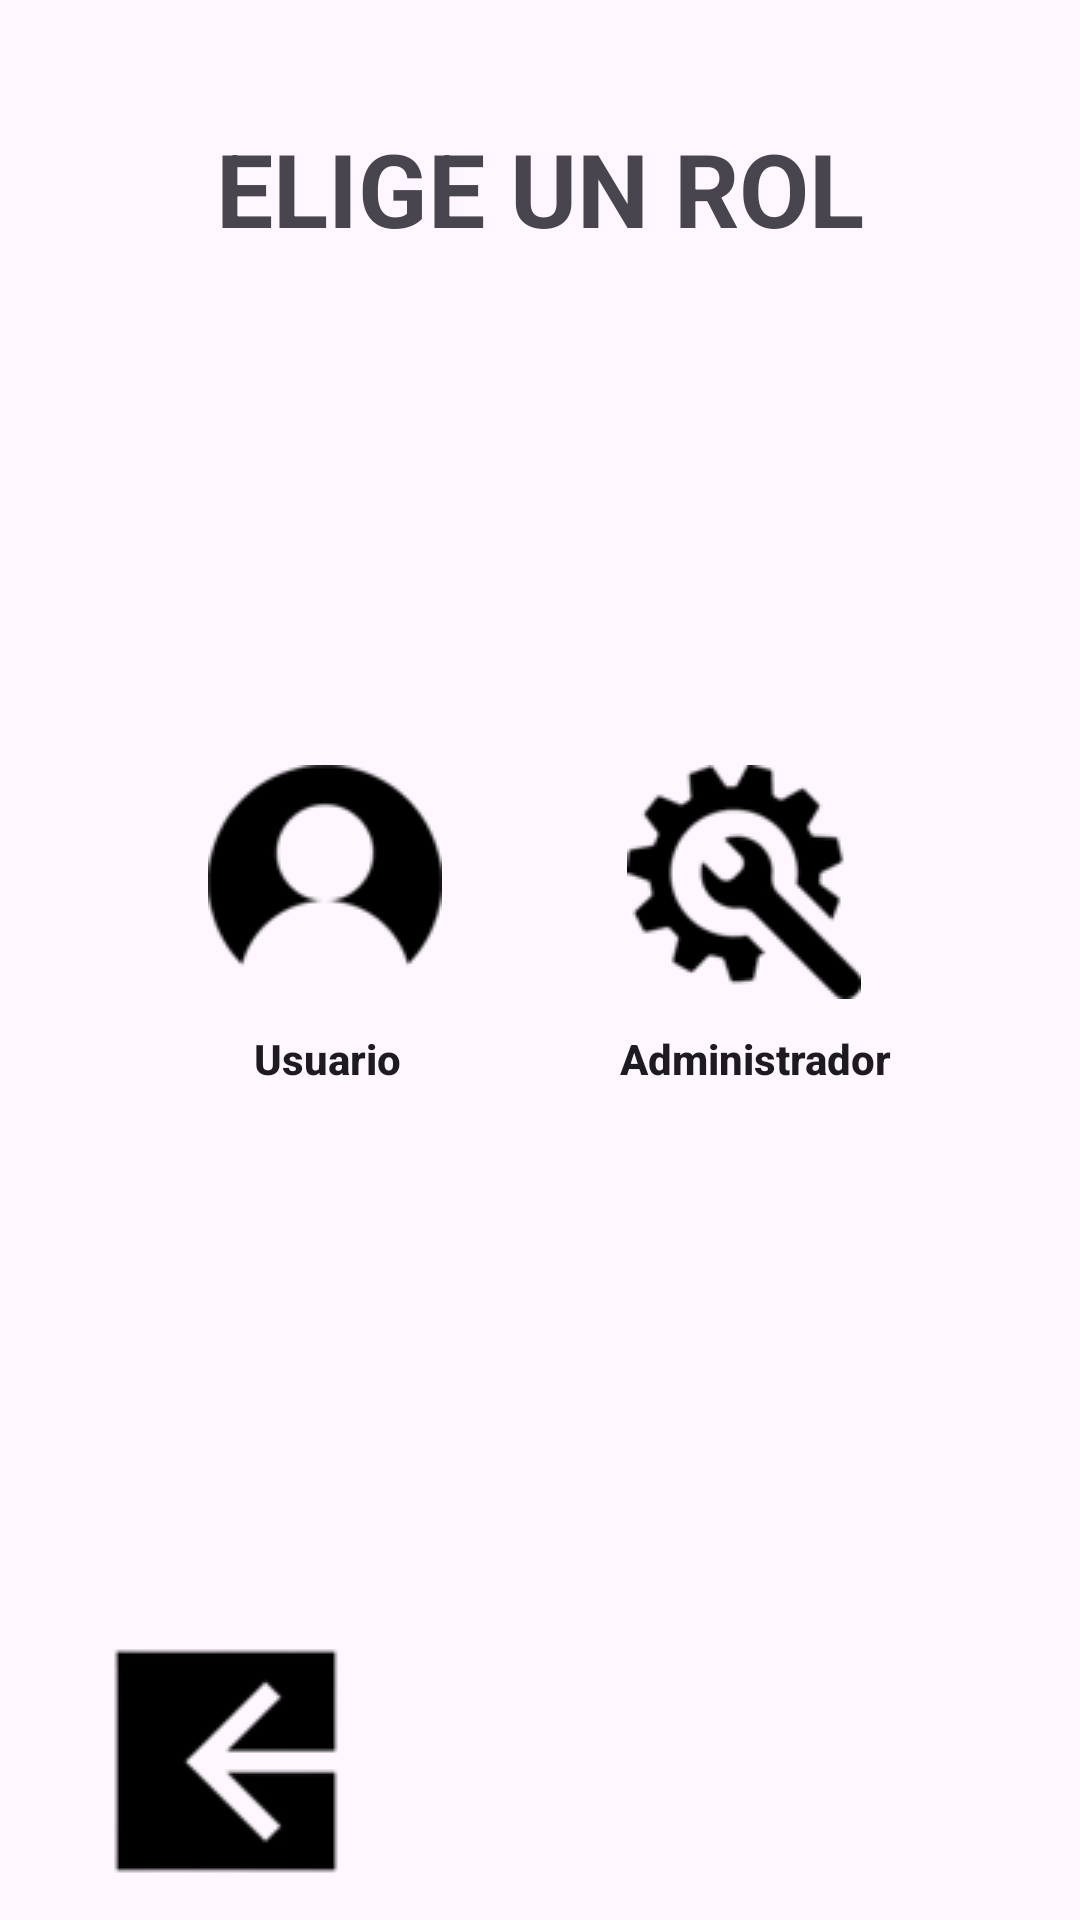

Icon click points for this 1080*1920 phone screenshot, format point (x, y):
back: point (226, 1761)
